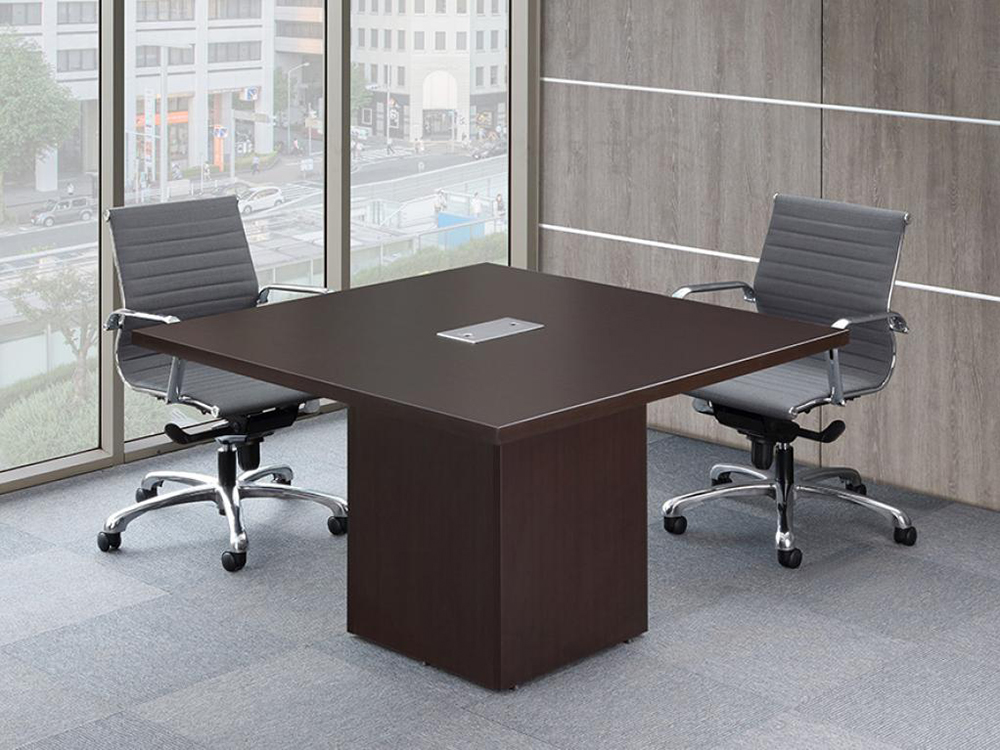conference_table: (130, 260, 849, 693)
